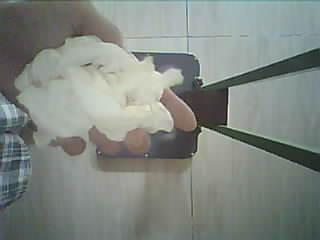paper: (16, 36, 183, 143)
